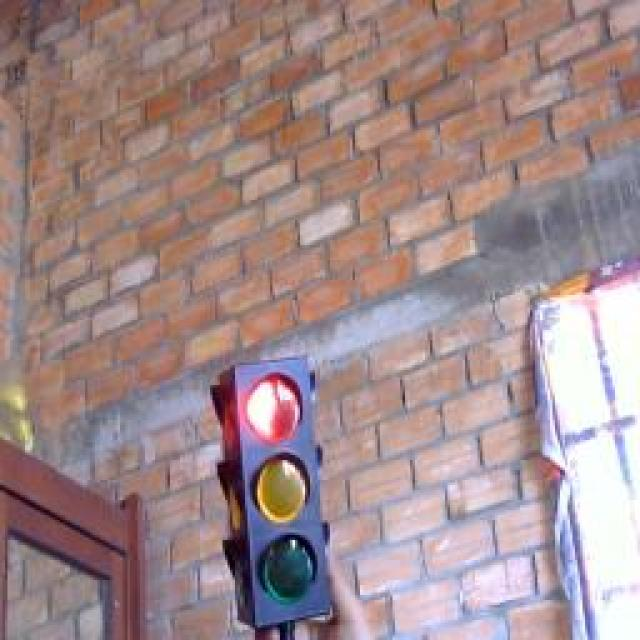-: (241, 365, 313, 447)
